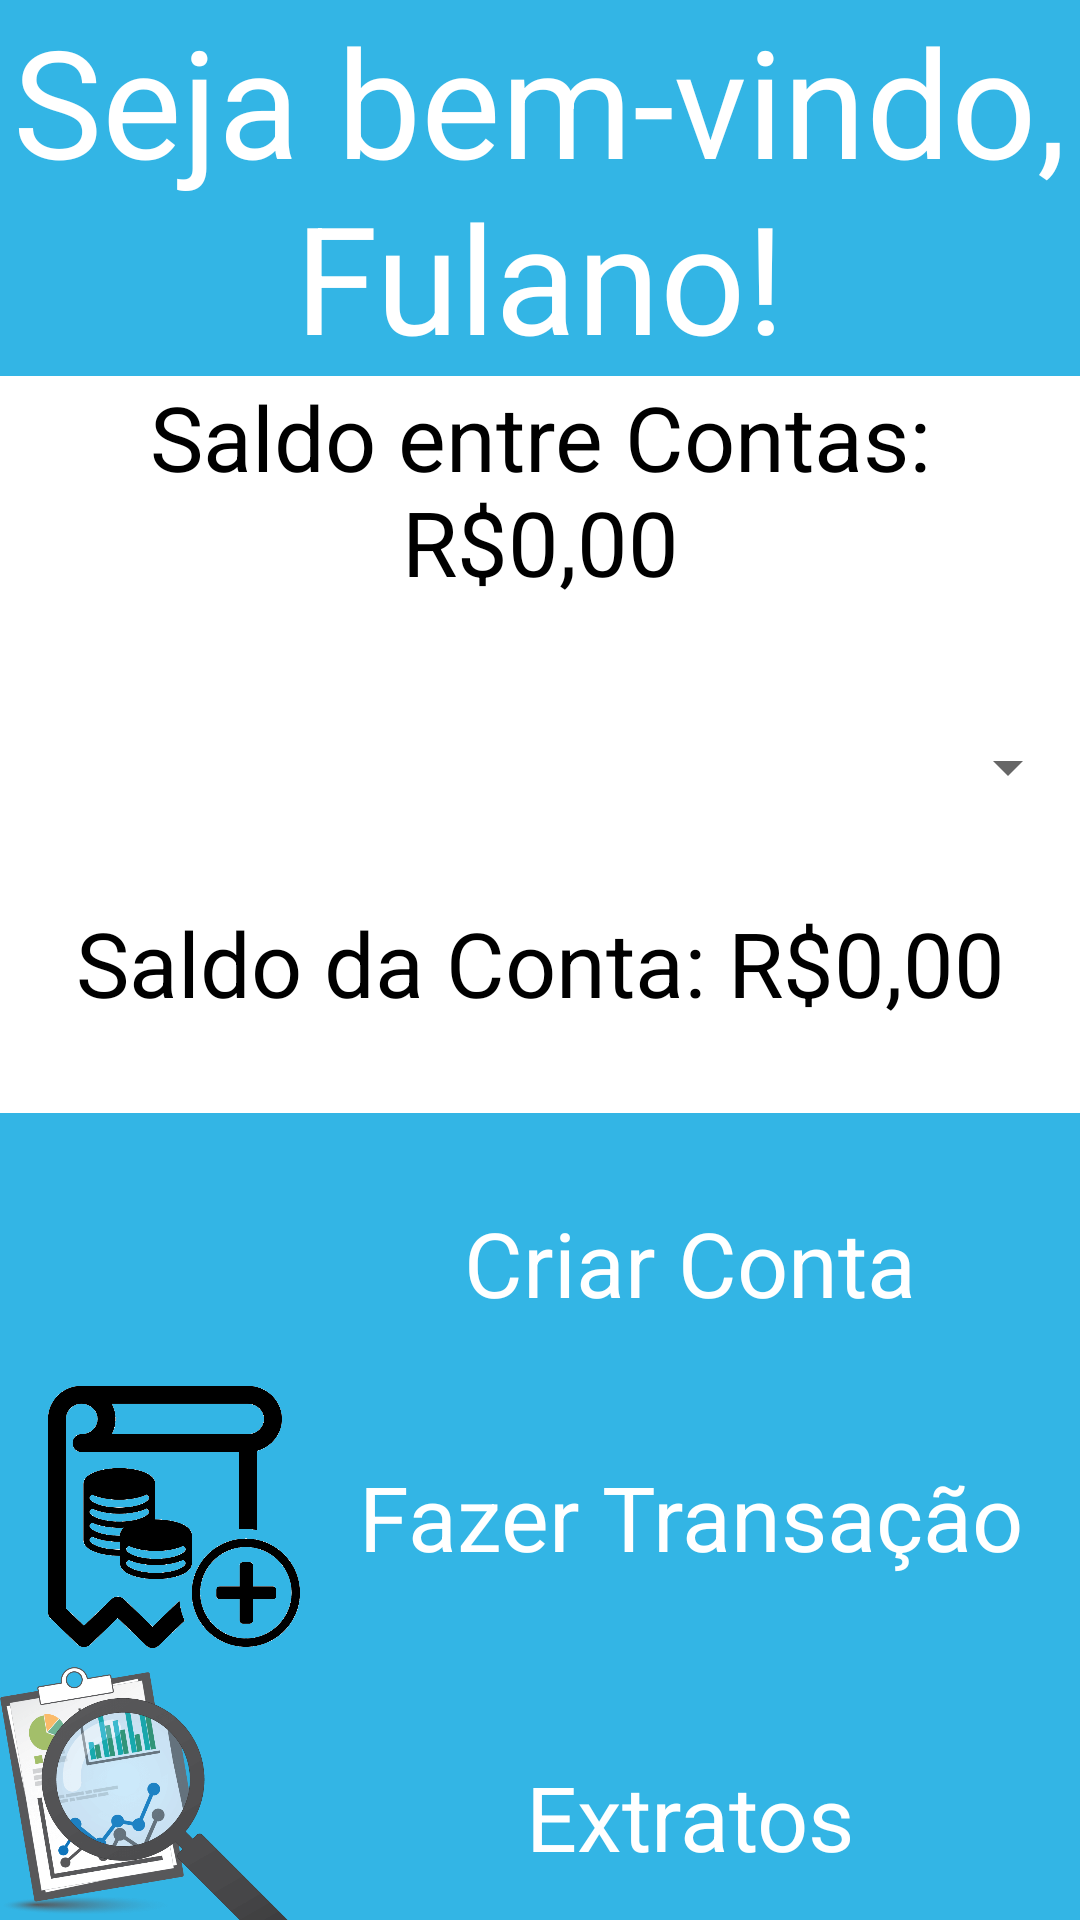

Screen size 1080px×1920px. Icon name, then its box in pixels as [x1, y1, x2, y2]:
financial transaction: [48, 1386, 300, 1648]
